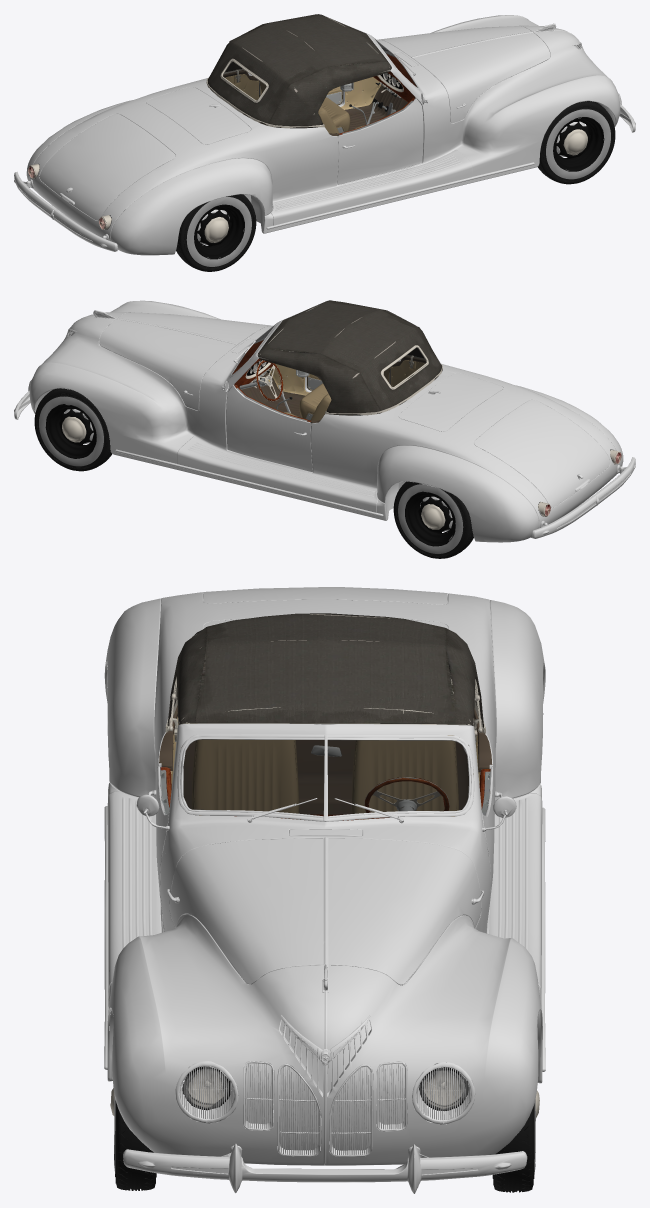
Rendered from zis.glb.
The picture shows the model from 3 angles, top to bottom: view 1: azimuth 30°, elevation 25°; view 2: azimuth 150°, elevation 25°; view 3: azimuth 270°, elevation 25°; orthographic projection. The views are drawn at different scales.
Visible parts, largest first — view 1: body, spin_FR, spin_RR; view 2: body, spin_FL, spin_RL; view 3: body, spin_FR, spin_FL.
Part boxes in pixels (bbox=[...]): body: bbox=[14, 14, 635, 255]; spin_FR: bbox=[538, 101, 615, 184]; spin_RR: bbox=[176, 194, 256, 271]; body: bbox=[14, 300, 635, 542]; spin_FL: bbox=[34, 388, 111, 471]; spin_RL: bbox=[393, 481, 473, 558]; body: bbox=[104, 587, 545, 1193]; spin_FR: bbox=[110, 1088, 156, 1190]; spin_FL: bbox=[492, 1090, 539, 1192].
Bounding box in the file's own units: 5.4 × 1.53 × 1.88.
15 materials, 8 textured.
